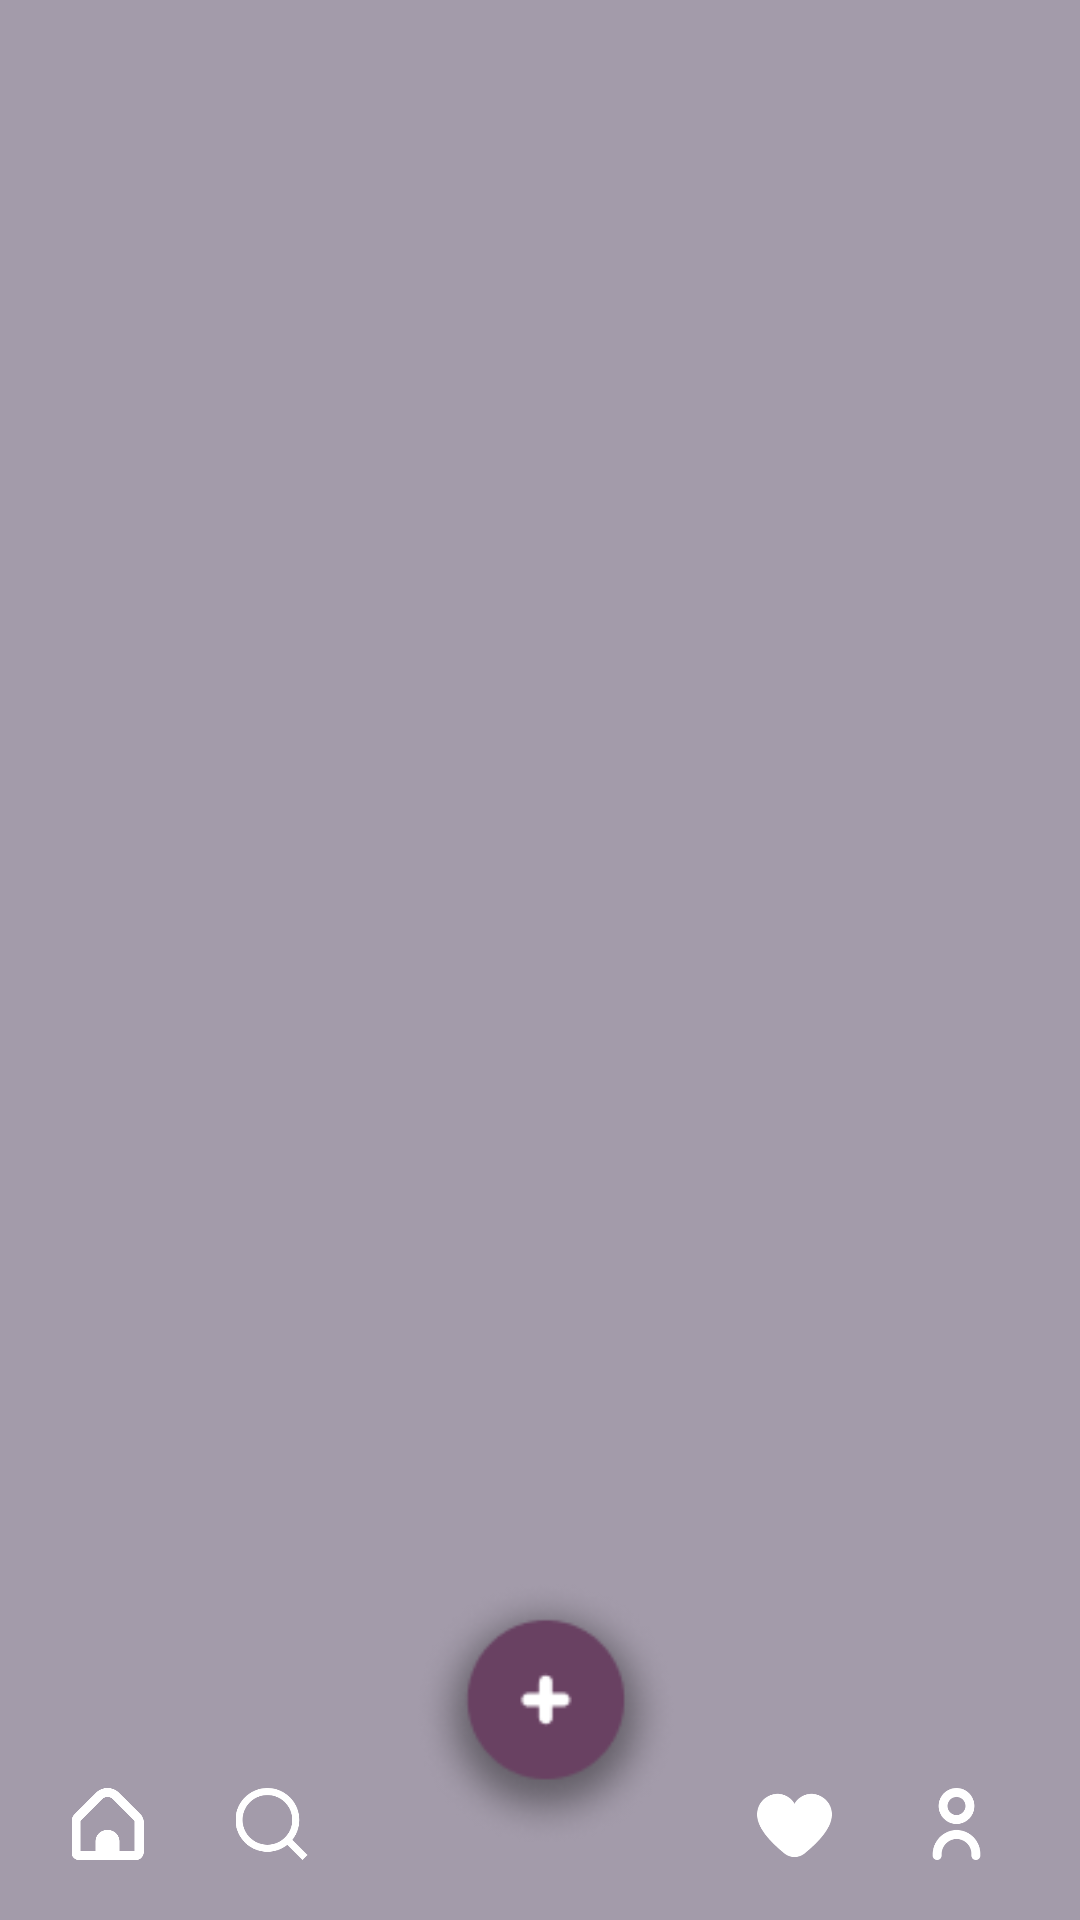

Screen size 1080x1920. Icon name, then its box in pixels as [x1=x1, y1=y1, x2=x2, y2=y2]:
cari: [x1=236, y1=1788, x2=307, y2=1860]
favorit: [x1=757, y1=1794, x2=832, y2=1857]
home: [x1=72, y1=1788, x2=144, y2=1860]
user: [x1=932, y1=1788, x2=981, y2=1860]
